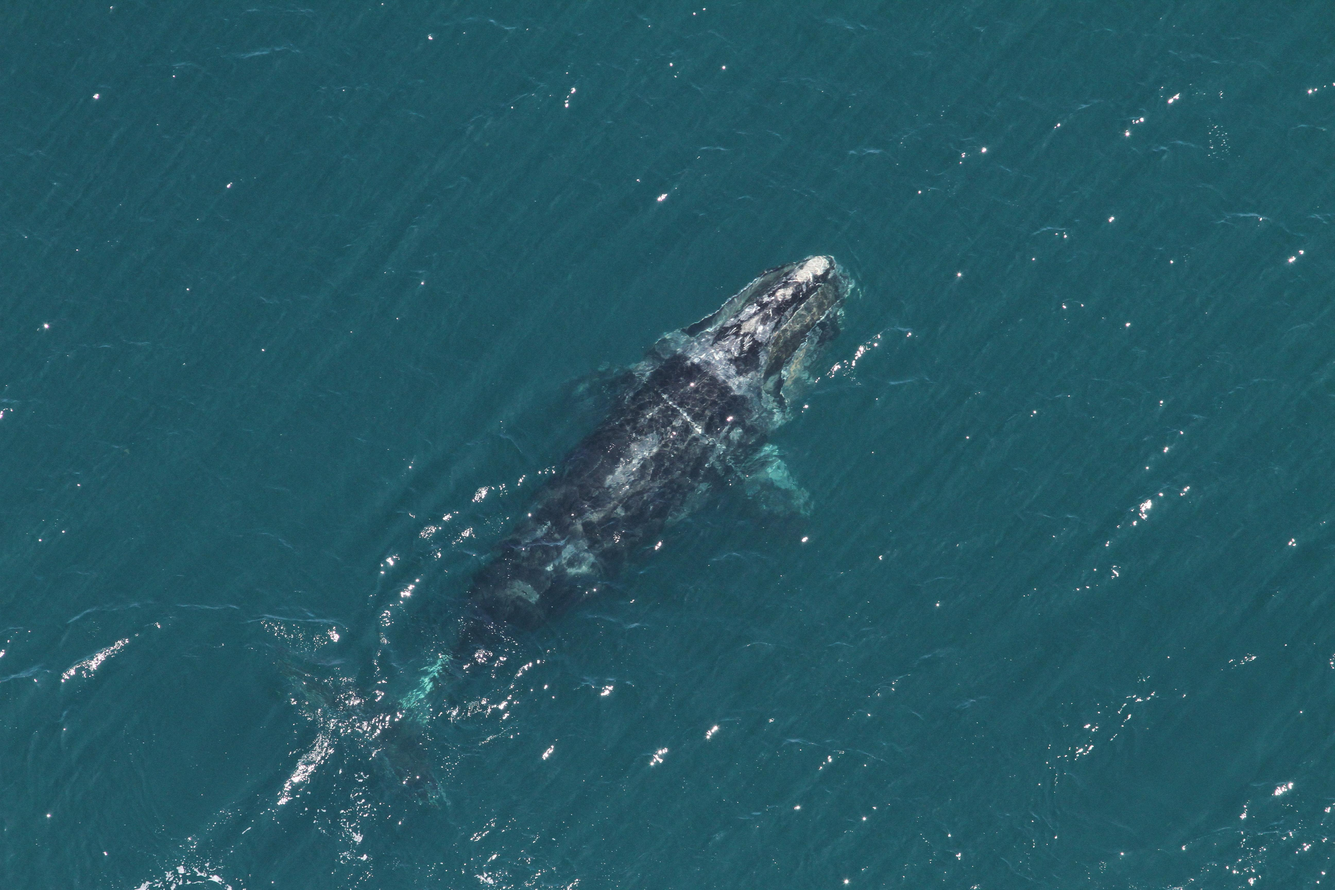whale: (273, 247, 868, 846)
